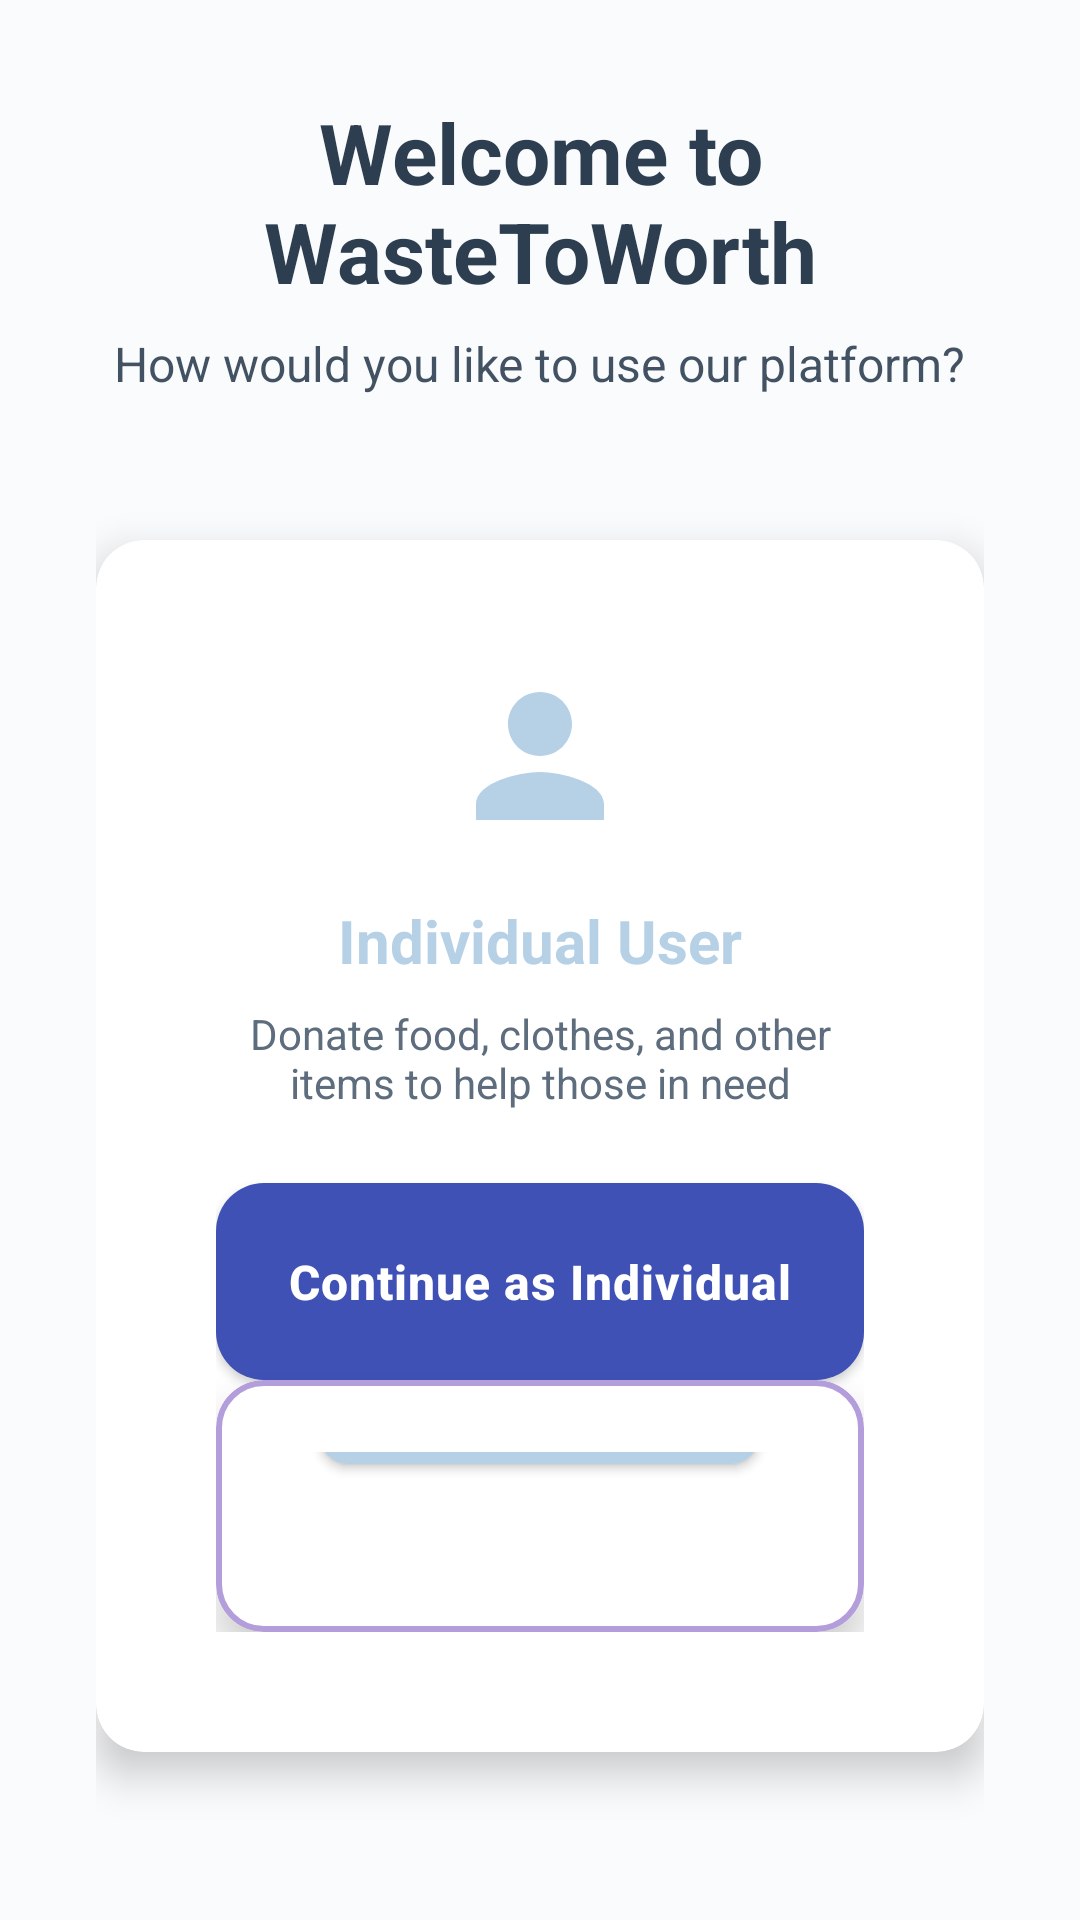

Screen size 1080px x 1920px. Icon name, then its box in pixels as (x1, y1, x2, y2):
person: (476, 692, 604, 820)
